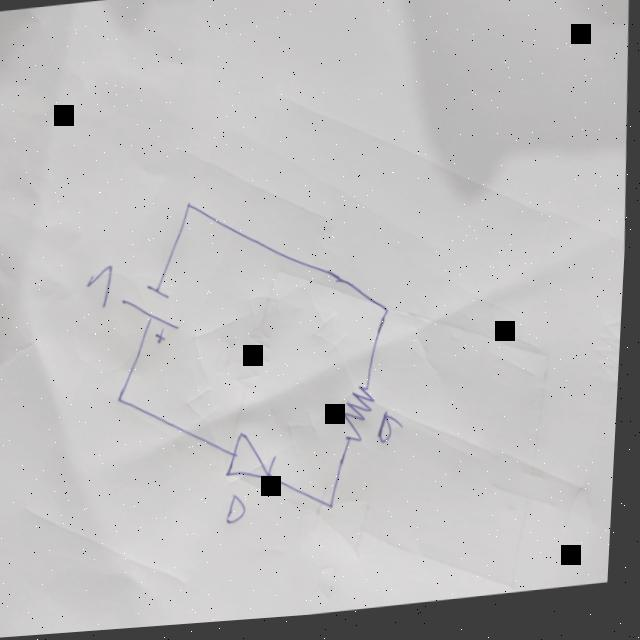diode: (227, 430, 285, 502)
junction: (117, 394, 132, 411), (328, 503, 343, 520), (184, 201, 198, 219), (381, 309, 395, 325)
resistor: (341, 389, 383, 451)
source: (119, 283, 185, 353)
text: (85, 264, 118, 313), (379, 415, 410, 452), (230, 497, 252, 531)
